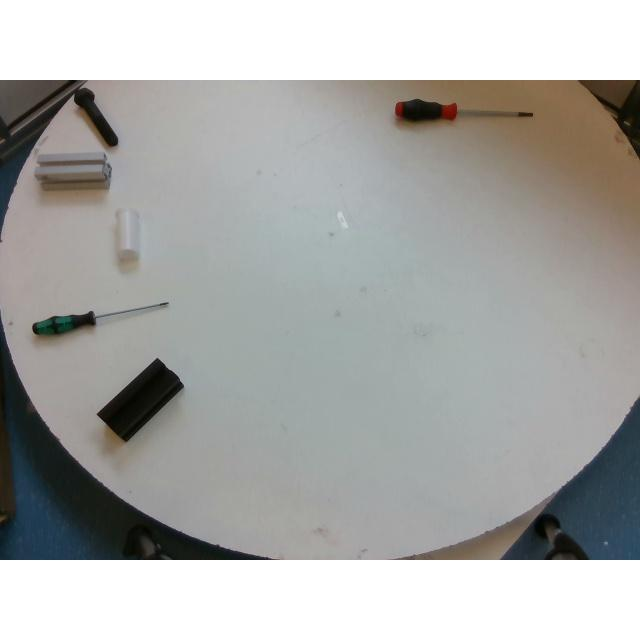M20_100: (74, 88, 118, 146)
S40_40_B: (97, 358, 183, 440)
S40_40_G: (34, 152, 110, 188)
Screwdriver: (32, 300, 168, 336)
Spacer: (116, 210, 140, 262)
